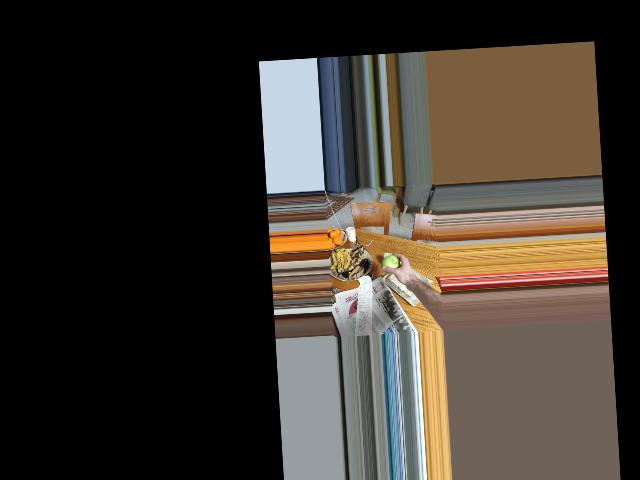apple: (382, 255, 405, 279)
